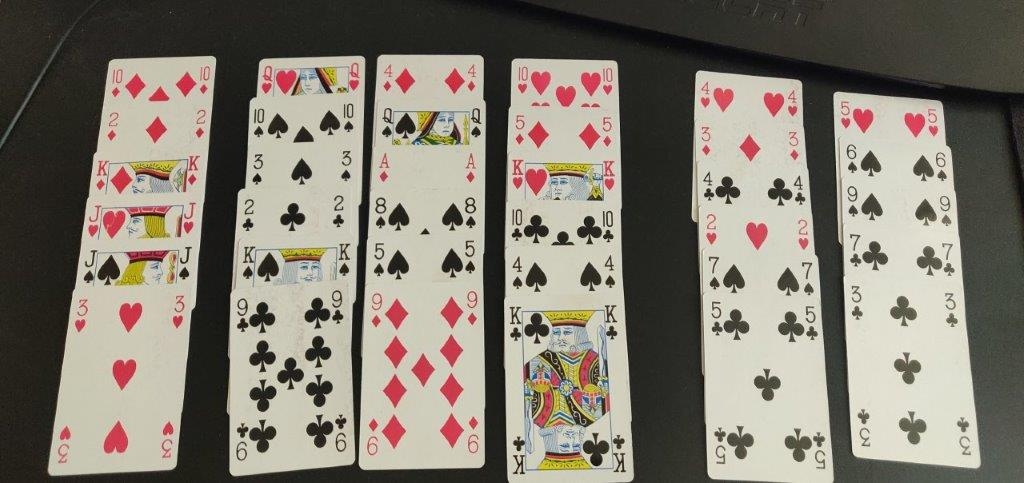10C: (601, 206, 616, 245), (510, 205, 524, 245)
10D: (105, 63, 125, 99), (197, 63, 212, 96)
10H: (514, 63, 532, 96), (600, 66, 616, 97)
10S: (251, 103, 269, 139), (341, 100, 356, 135)
2C: (240, 194, 259, 233), (332, 193, 347, 231)
2D: (191, 105, 209, 141), (105, 109, 122, 146)
2H: (703, 209, 722, 248), (793, 217, 812, 251)
3C: (846, 281, 869, 325), (940, 291, 961, 328)
3D: (697, 124, 714, 158), (786, 126, 800, 164)
3H: (169, 290, 187, 332), (75, 292, 90, 336)
3S: (339, 147, 355, 186), (250, 152, 268, 186)
4C: (700, 166, 717, 202), (792, 173, 809, 207)
4D: (465, 61, 482, 95), (381, 62, 395, 93)
4H: (786, 85, 800, 121), (698, 80, 713, 112)
4S: (603, 250, 619, 293), (510, 253, 525, 293)
5C: (803, 304, 821, 345), (707, 299, 725, 339)
5D: (599, 114, 617, 151), (511, 110, 527, 148)
5H: (925, 104, 942, 142), (835, 97, 855, 129)
5S: (371, 240, 386, 279), (465, 238, 479, 278)
6S: (842, 137, 860, 177), (932, 146, 950, 185)
7C: (939, 240, 961, 281), (846, 229, 865, 270)
7S: (797, 255, 817, 299), (704, 253, 723, 290)
8S: (463, 194, 480, 230), (372, 191, 388, 229)
9C: (232, 296, 251, 335), (330, 285, 348, 326)
9D: (465, 287, 481, 331), (368, 289, 384, 329)
9S: (935, 191, 954, 232), (843, 183, 861, 220)
AD: (376, 149, 394, 187), (462, 150, 481, 186)
JH: (180, 198, 198, 237), (84, 203, 101, 237)
JS: (178, 243, 193, 284), (80, 247, 97, 282)
KC: (603, 301, 619, 342), (508, 304, 524, 343)
KD: (187, 154, 203, 188), (95, 159, 107, 190)
KH: (601, 158, 619, 193), (511, 157, 526, 190)
KS: (240, 243, 255, 280), (338, 239, 352, 278)
QH: (347, 58, 361, 92), (261, 63, 275, 94)
QS: (380, 104, 395, 140), (470, 105, 484, 143)
